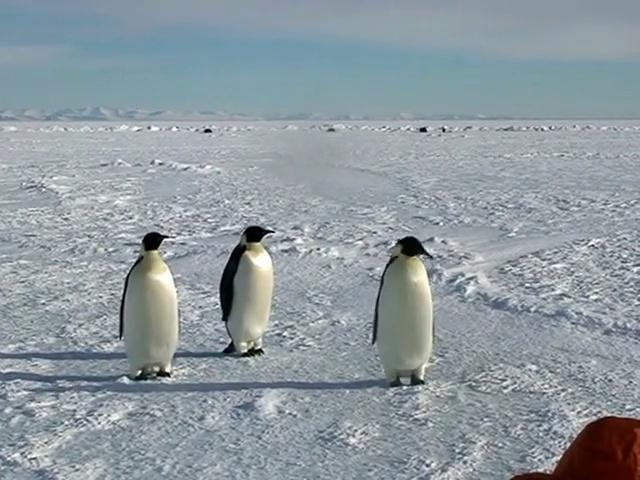animal: (374, 237, 434, 387)
